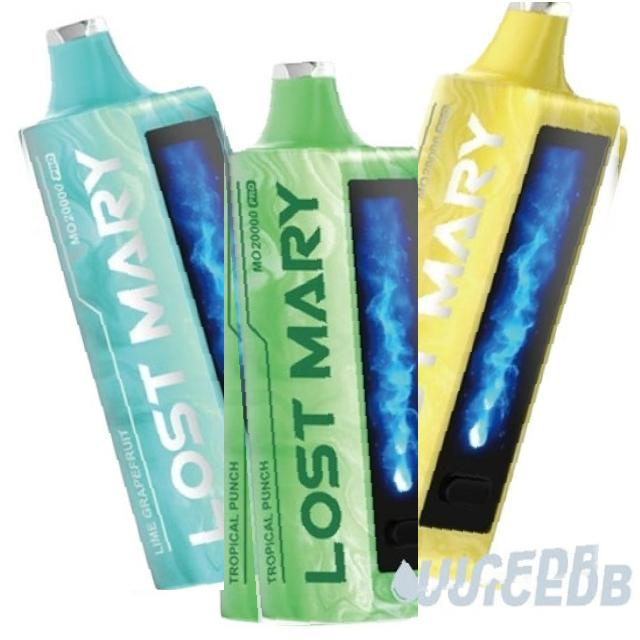Vapes: (412, 2, 628, 596), (17, 13, 224, 590), (217, 61, 418, 626)
